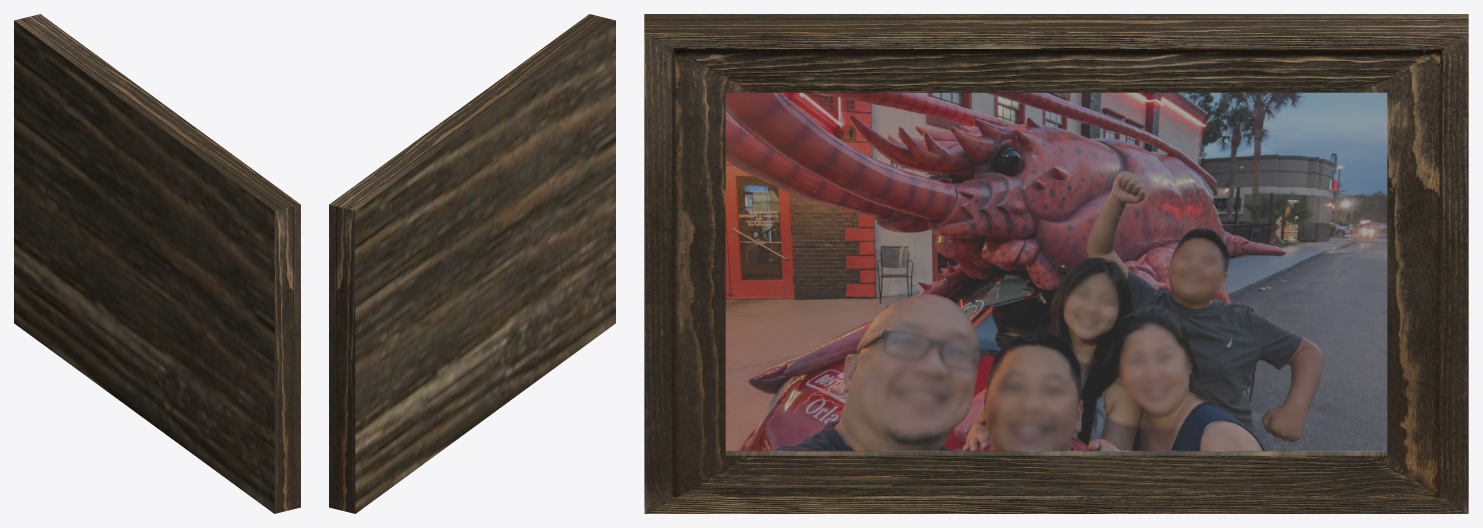
File: picture.glb
3 renders of one model, left to right at view 1: azimuth 30°, elevation 25°; view 2: azimuth 150°, elevation 25°; view 3: azimuth 270°, elevation 25°, orthographic. The views are drawn at different scales.
Visible parts, largest first — view 1: Cube; view 2: Cube; view 3: Cube.
Part boxes in pixels (bbox=[...]): Cube: bbox=[14, 14, 300, 513]; Cube: bbox=[329, 14, 615, 513]; Cube: bbox=[644, 14, 1468, 513].
Bounding box in the file's own units: 0.1822 × 2 × 3.12.
Materials: 4 (3 with a texture image).
